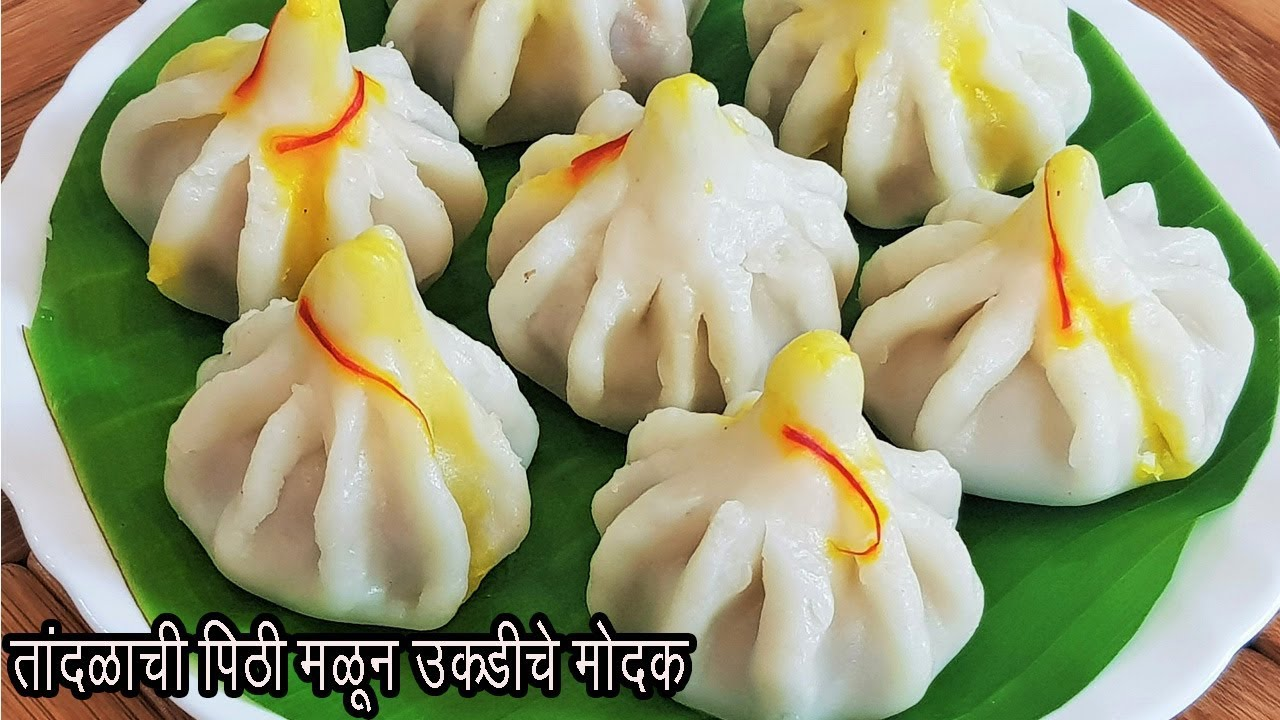modak: (585, 356, 1001, 694), (855, 144, 1261, 490), (191, 248, 537, 628), (484, 85, 891, 408), (116, 3, 501, 295)
